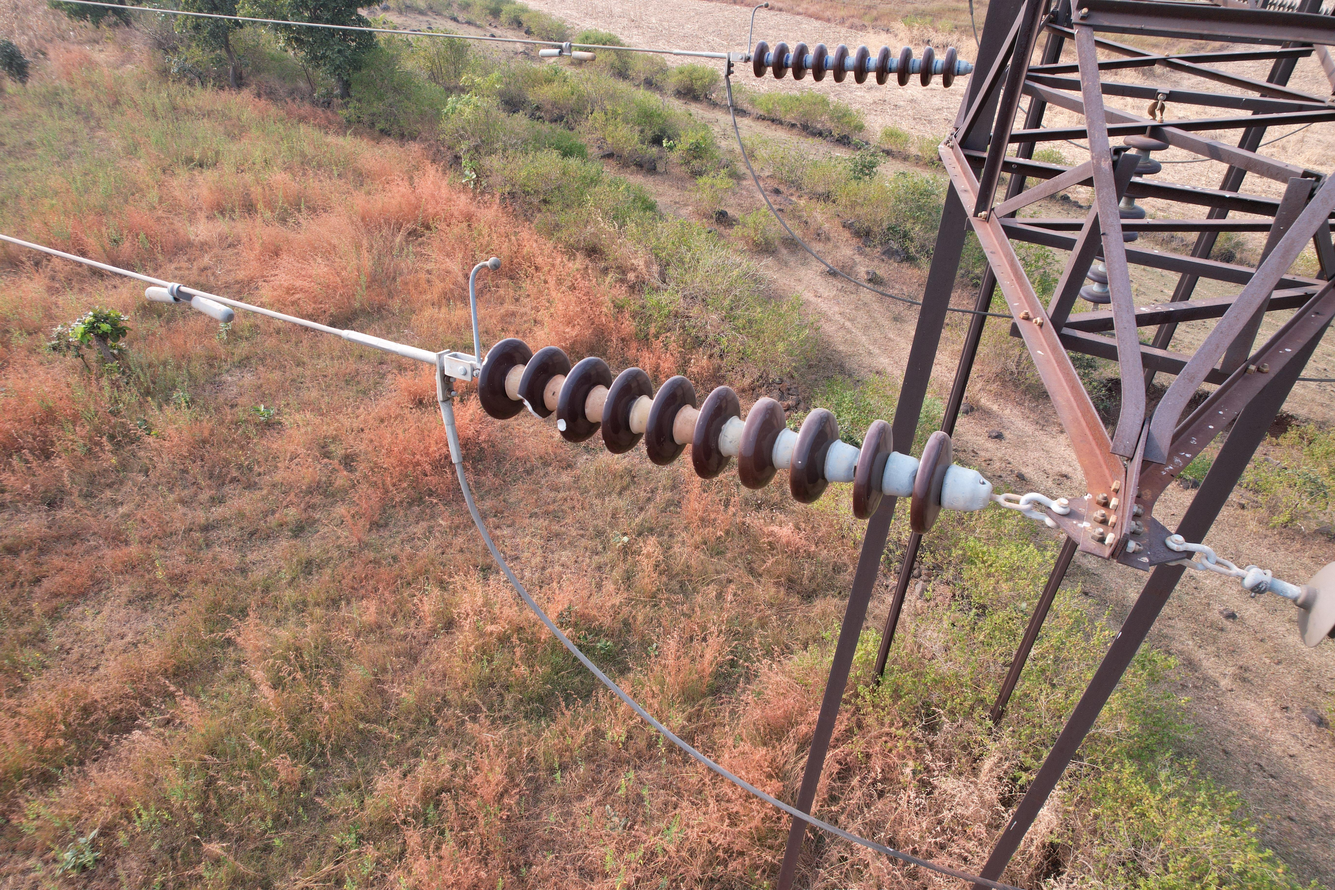broken_insulator: (515, 335, 564, 433)
